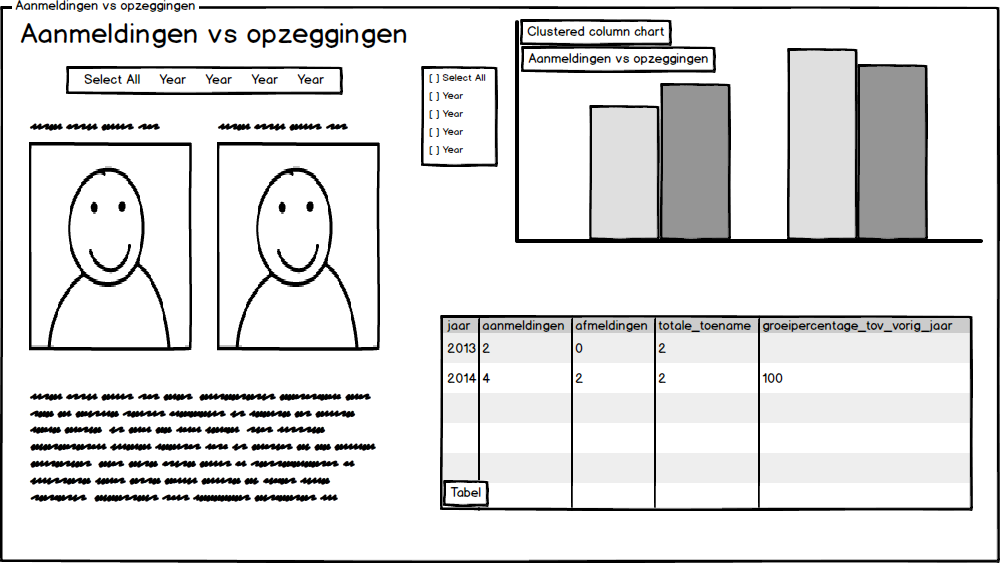

This screenshot's page, from the dashboard's own definition file:
{"tool":"powerbi","page":{"name":"Aanmeldingen versus afmeldingen","canvas":[1280,720],"ordinal":3},"visuals":[{"type":"textbox","box":[9.6,0,271,40.2],"z":1},{"type":"image","box":[44.6,200,200.3,400],"z":2},{"type":"image","box":[259.8,200.3,200.3,400],"z":3},{"type":"card","fields":{"Values":["CountNonNull(Customer.subscription_start)"]},"box":[91,150,107.6,40.2],"z":4},{"type":"card","fields":{"Values":["CountNonNull(Customer.subscription_end)"]},"box":[306.2,150,107.6,40.2],"z":5},{"type":"clusteredColumnChart","fields":{"Category":["Customer.subscription_start.Variation.Date Hierarchy.Year","Customer.subscription_end.Variation.Date Hierarchy.Year"],"Y":["CountNonNull(Customer.subscription_start)","CountNonNull(Customer.subscription_end)"]},"box":[620,29.7,625,340.3],"z":6},{"type":"slicer","fields":{"Values":["Customer.subscription_start.Variation.Date Hierarchy.Year"]},"box":[46.4,54.2,411.2,69.1],"z":7},{"type":"tableEx","fields":{"Values":["Sum(AanmeldingenVSAfmeldingen.jaar)","Sum(AanmeldingenVSAfmeldingen.aanmeldingen)","Sum(AanmeldingenVSAfmeldingen.afmeldingen)","Sum(AanmeldingenVSAfmeldingen.totale_toename)","Sum(AanmeldingenVSAfmeldingen.groeipercentage_tov_vorig_jaar)"]},"box":[574.8,449.7,670.1,164.5],"z":9},{"type":"textbox","box":[20.1,624.6,465.4,71.7],"z":9},{"type":"slicer","fields":{"Values":["AanmeldingenVSAfmeldingen.jaar"]},"box":[488.2,7.9,99.7,130.4],"z":10}]}

Visuals, with their boxes in screenshot pixels (x1, y1, x2, y2), scaled from the page's 1280x720 canvas onto the 1000x563 screenshot:
textbox: {"x1": 8, "y1": 0, "x2": 219, "y2": 31}
image: {"x1": 35, "y1": 156, "x2": 191, "y2": 469}
image: {"x1": 203, "y1": 157, "x2": 359, "y2": 469}
card - CountNonNull(Customer.subscription_start): {"x1": 71, "y1": 117, "x2": 155, "y2": 149}
card - CountNonNull(Customer.subscription_end): {"x1": 239, "y1": 117, "x2": 323, "y2": 149}
clusteredColumnChart - Customer.subscription_start.Variation.Date Hierarchy.Year x Customer.subscription_end.Variation.Date Hierarchy.Year: {"x1": 484, "y1": 23, "x2": 973, "y2": 289}
slicer - Customer.subscription_start.Variation.Date Hierarchy.Year: {"x1": 36, "y1": 42, "x2": 358, "y2": 96}
tableEx - Sum(AanmeldingenVSAfmeldingen.jaar) x Sum(AanmeldingenVSAfmeldingen.aanmeldingen): {"x1": 449, "y1": 352, "x2": 973, "y2": 480}
textbox: {"x1": 16, "y1": 488, "x2": 379, "y2": 544}
slicer - AanmeldingenVSAfmeldingen.jaar: {"x1": 381, "y1": 6, "x2": 459, "y2": 108}
